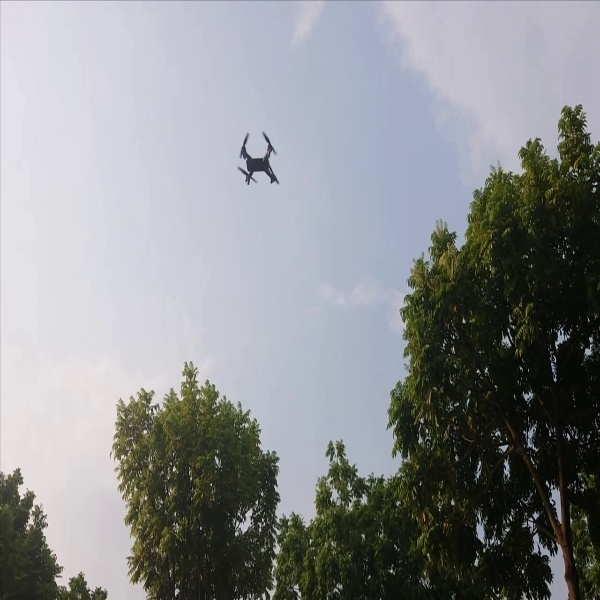drone: (229, 122, 289, 194)
